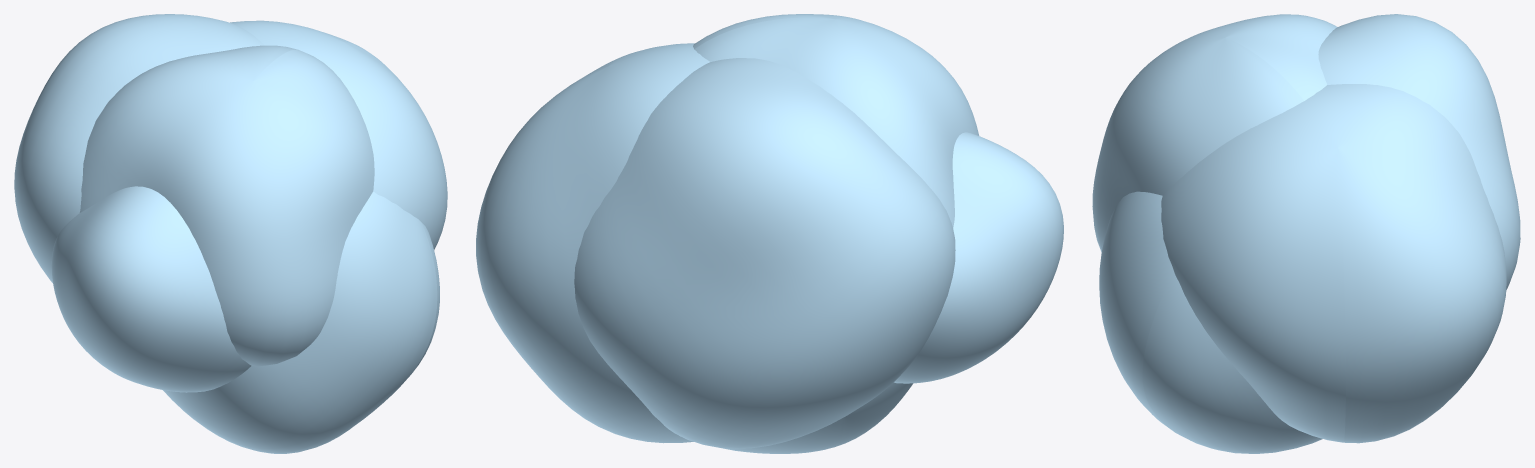
The model's file is LovenseController.dae.
3 views of the same model, side by side, from view 1: azimuth 30°, elevation 25°; view 2: azimuth 150°, elevation 25°; view 3: azimuth 270°, elevation 25° (orthographic). The views are drawn at different scales.
Parts seen in each view (by area): view 1: Glass; view 2: Glass; view 3: Glass.
Part boxes in pixels (x1,y1,x2,y2): Glass: [14, 14, 447, 453]; Glass: [476, 14, 1063, 453]; Glass: [1092, 14, 1520, 453].
Bounding box in the file's own units: 0.0763 × 0.0672 × 0.0674.
